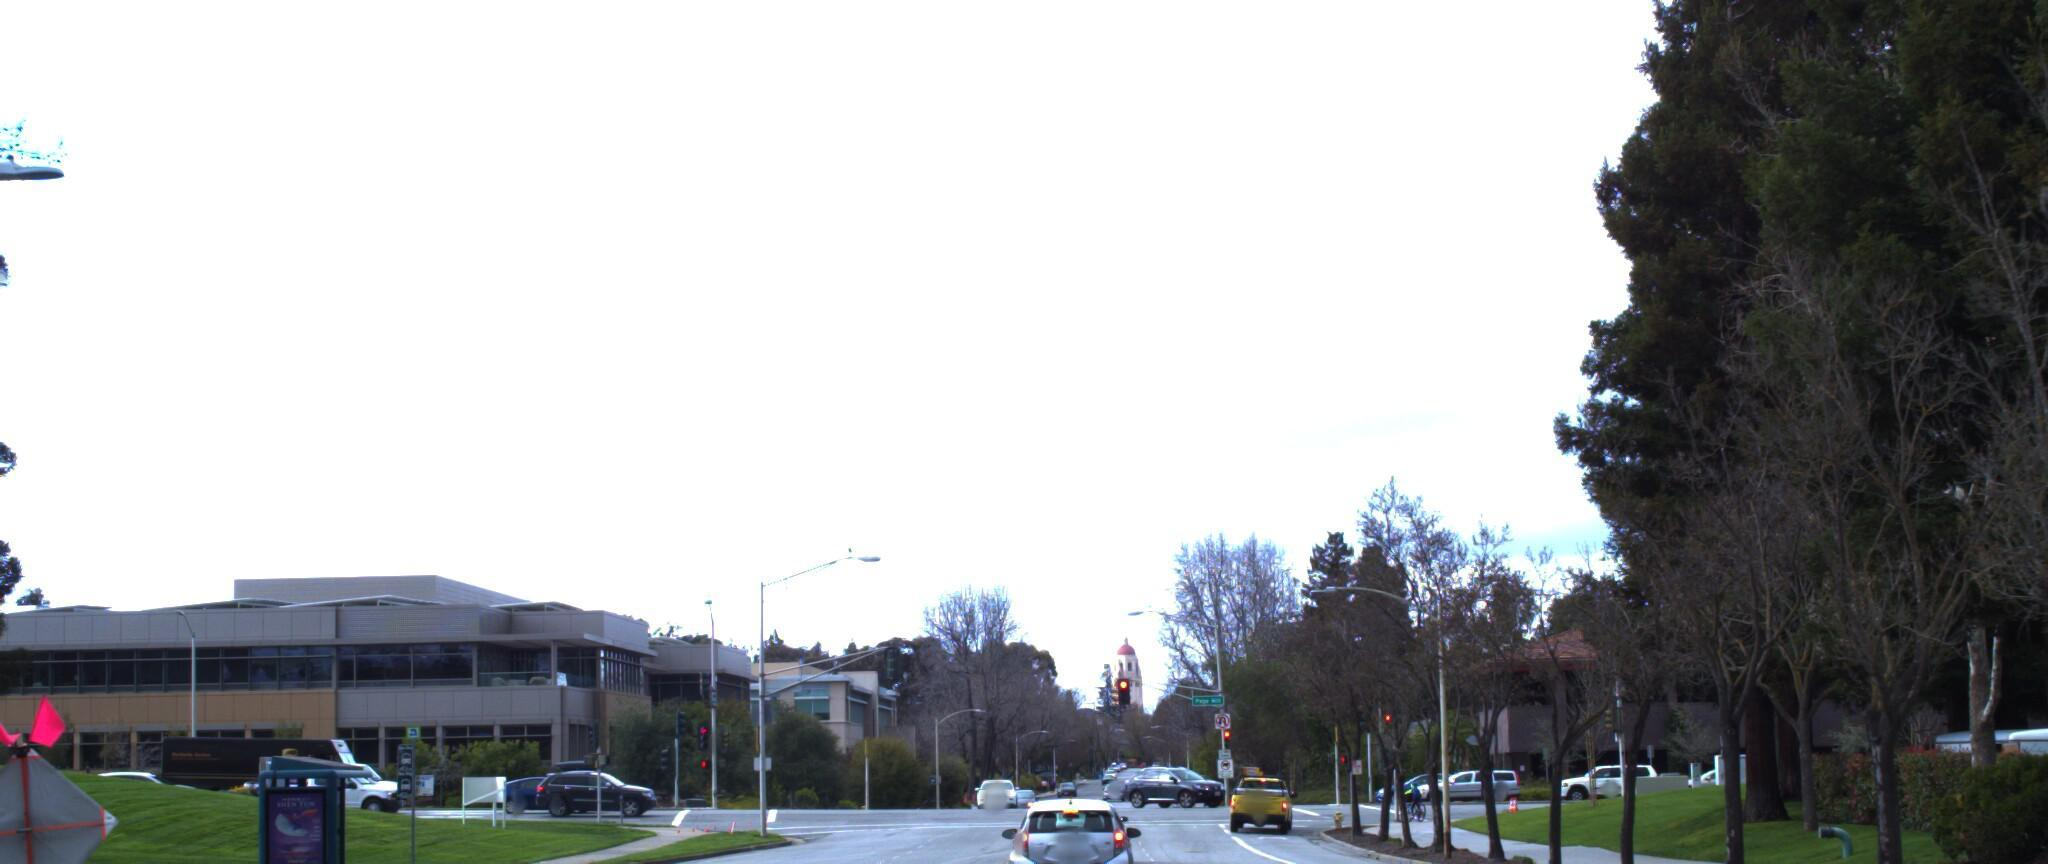car: (1004, 779, 1145, 864)
